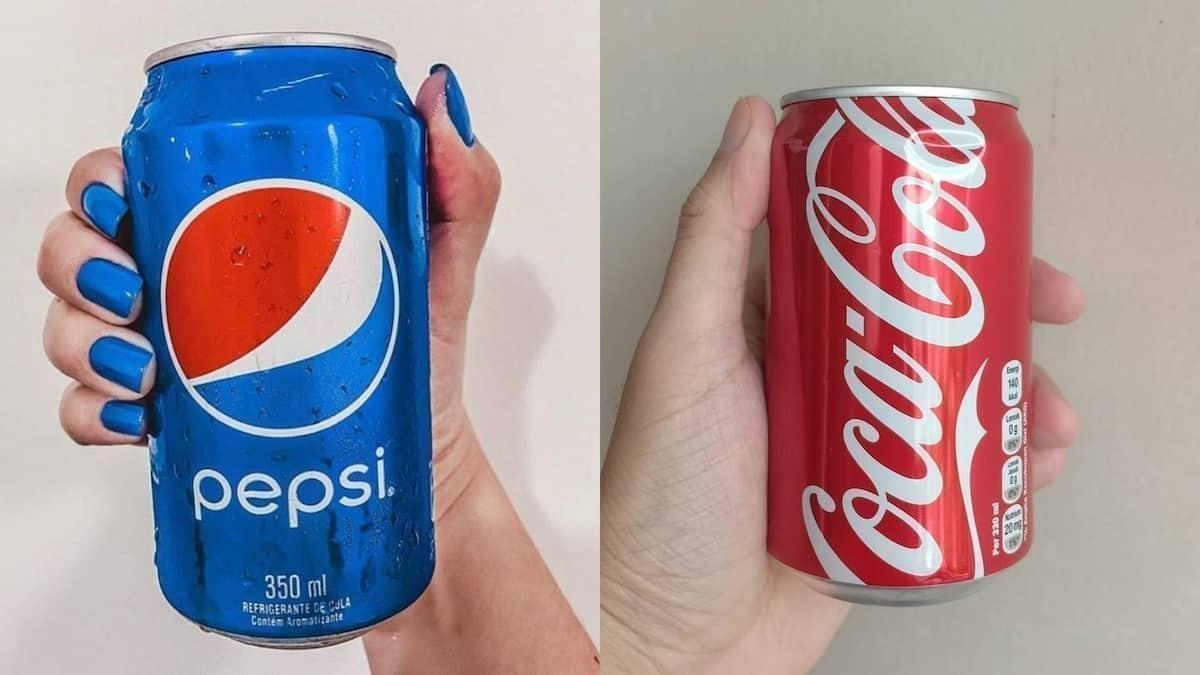tin can: (113, 27, 440, 649), (756, 80, 1042, 603)
